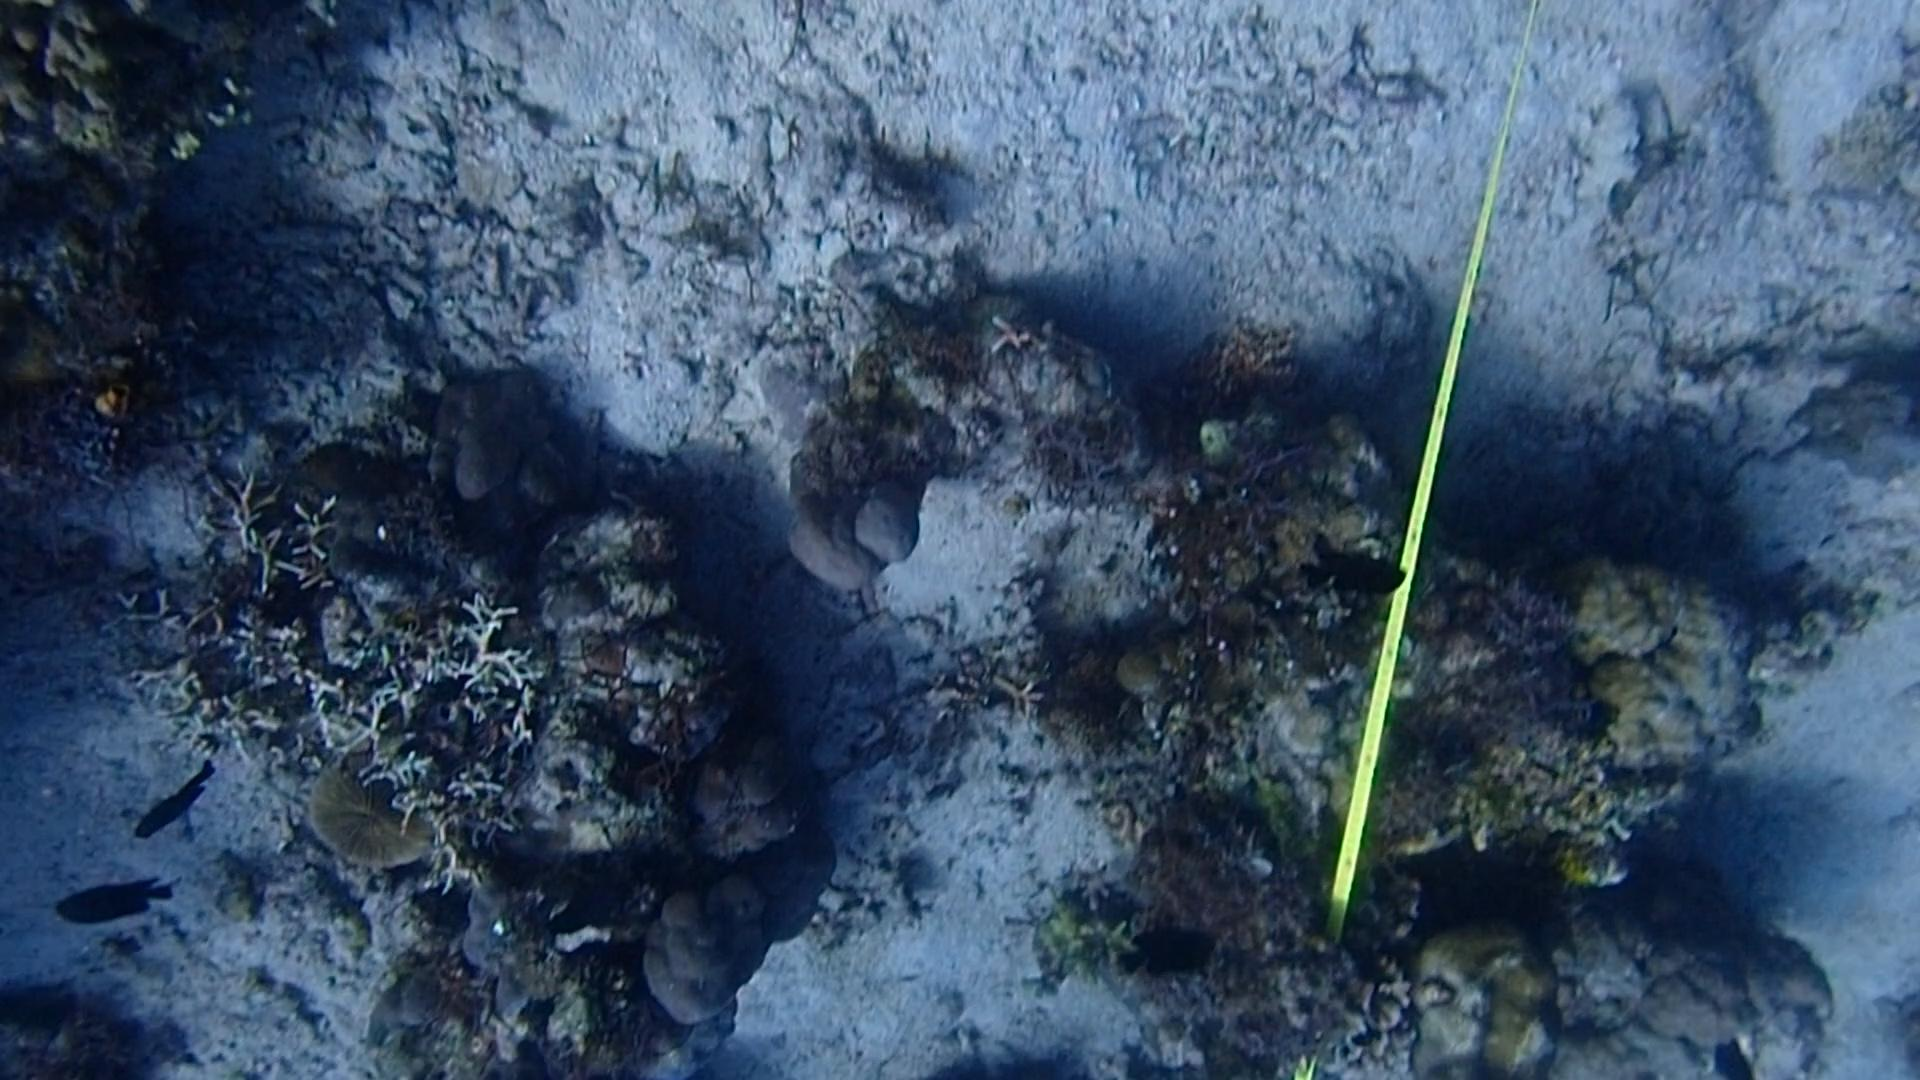Dark Fish: (525, 837, 651, 963), (120, 750, 235, 849), (1286, 524, 1420, 604), (50, 860, 187, 927), (1110, 914, 1226, 986)
